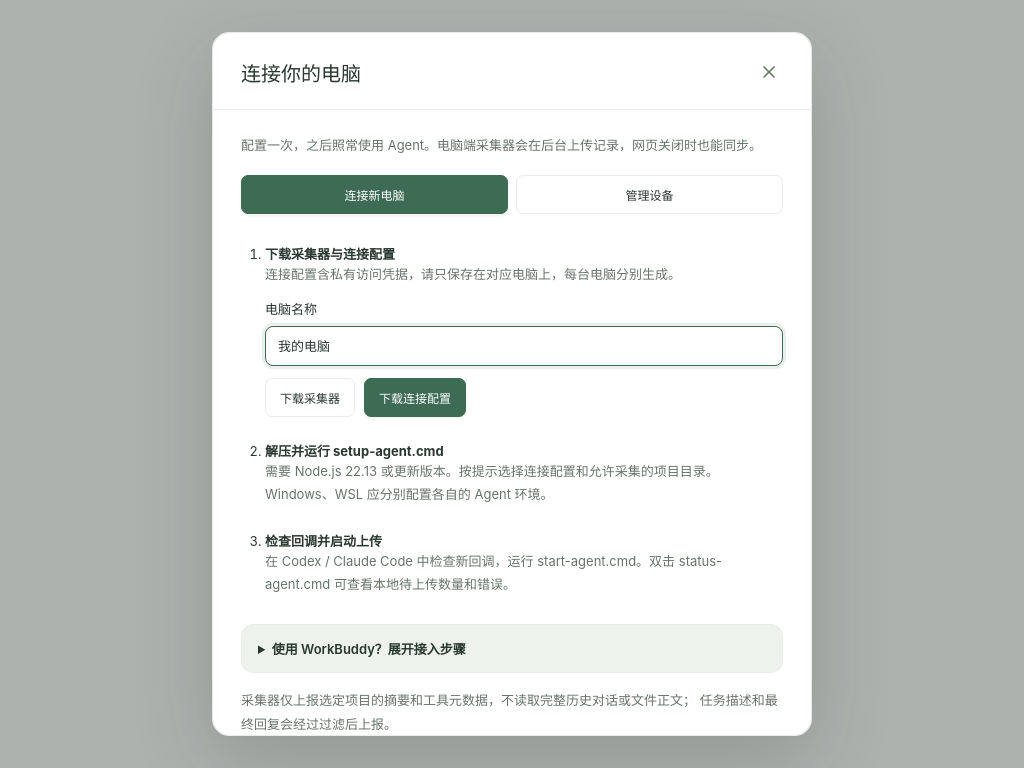
Scenario: 签发使用 POST 和电脑名称，成功下载后刷新设备列表
Replace the text in the field labelled "电脑名称" with "办公室电脑": point(524, 346) [265, 326, 783, 366]
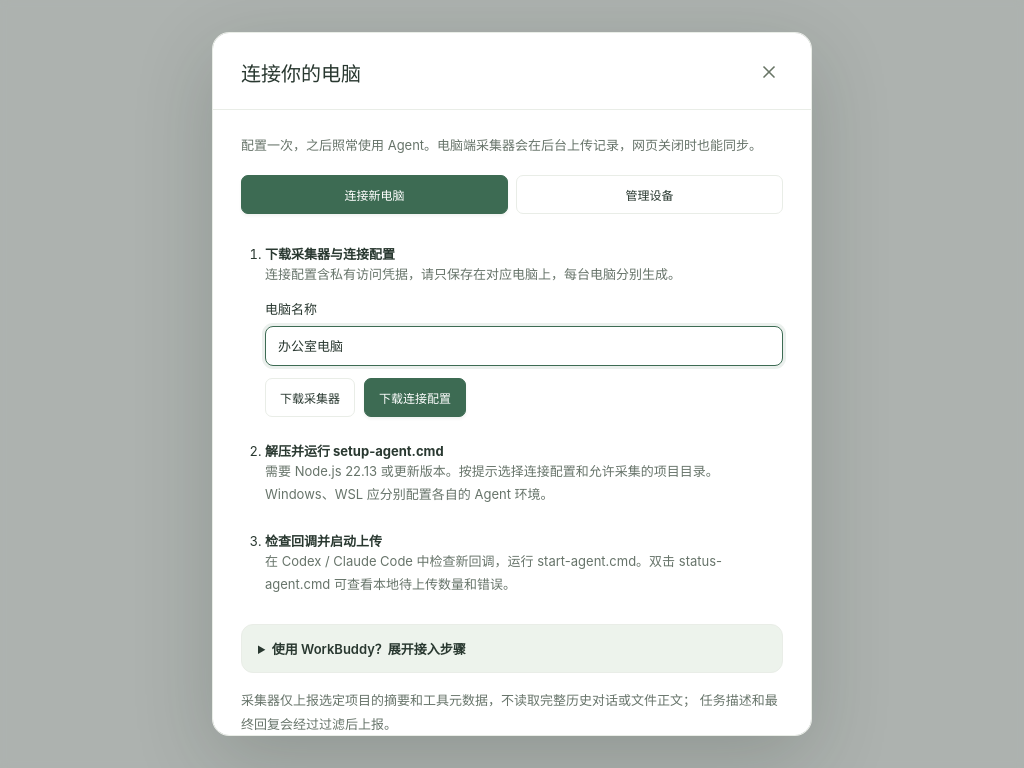
Click the button "下载连接配置": point(415, 397) [364, 378, 466, 417]
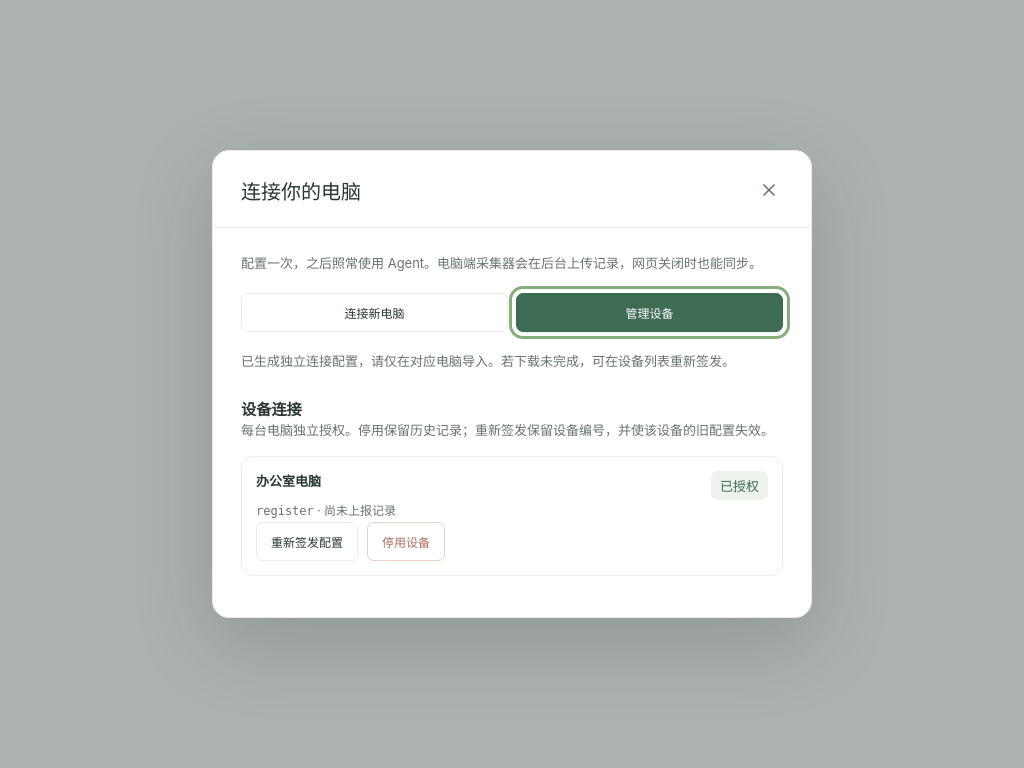
Check: the text "办公室电脑" is shown, box [256, 473, 321, 489]
